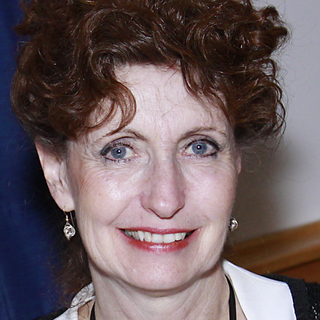eye: (177, 134, 222, 162), (97, 139, 142, 166)
